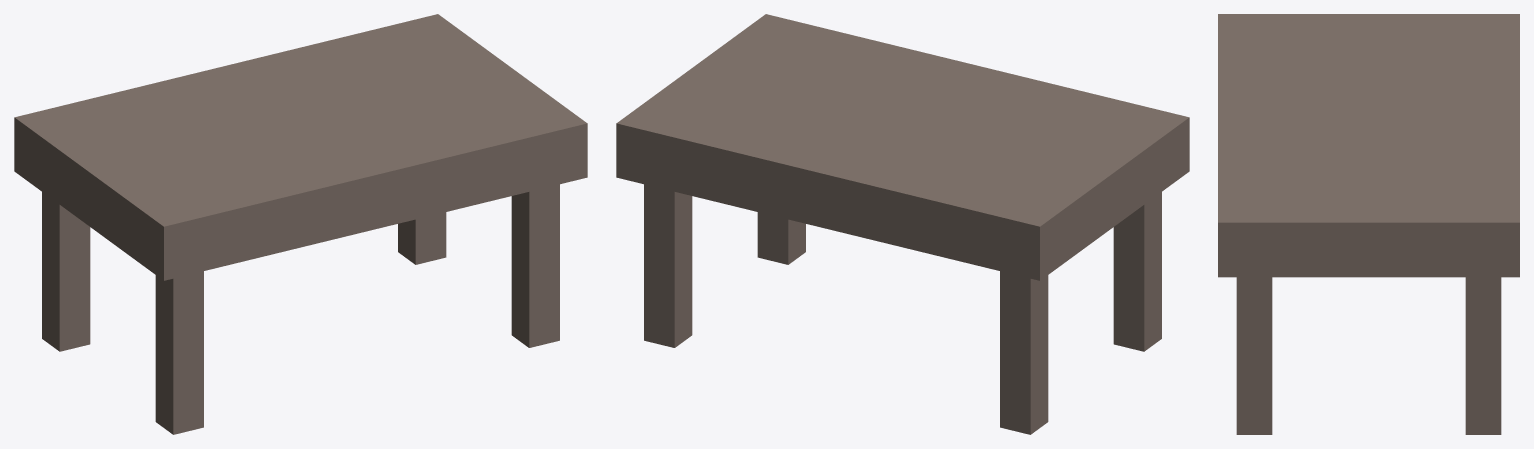
File: lack-dark.gltf
3 views of the same model, side by side, from view 1: azimuth 30°, elevation 25°; view 2: azimuth 150°, elevation 25°; view 3: azimuth 270°, elevation 25° (orthographic).
Visible parts, largest first — view 1: top, leg (×4); view 2: top, leg (×4); view 3: top, leg (×2).
Boxes of the visible parts, x1=… form: top: x1=14, y1=14, x2=587, y2=280; leg (×4): x1=42, y1=184, x2=559, y2=434; top: x1=616, y1=14, x2=1189, y2=280; leg (×4): x1=644, y1=184, x2=1161, y2=434; top: x1=1218, y1=14, x2=1519, y2=277; leg (×2): x1=1236, y1=277, x2=1501, y2=434.
Bounding box in the file's own units: 0.9 × 0.4455 × 0.55.
